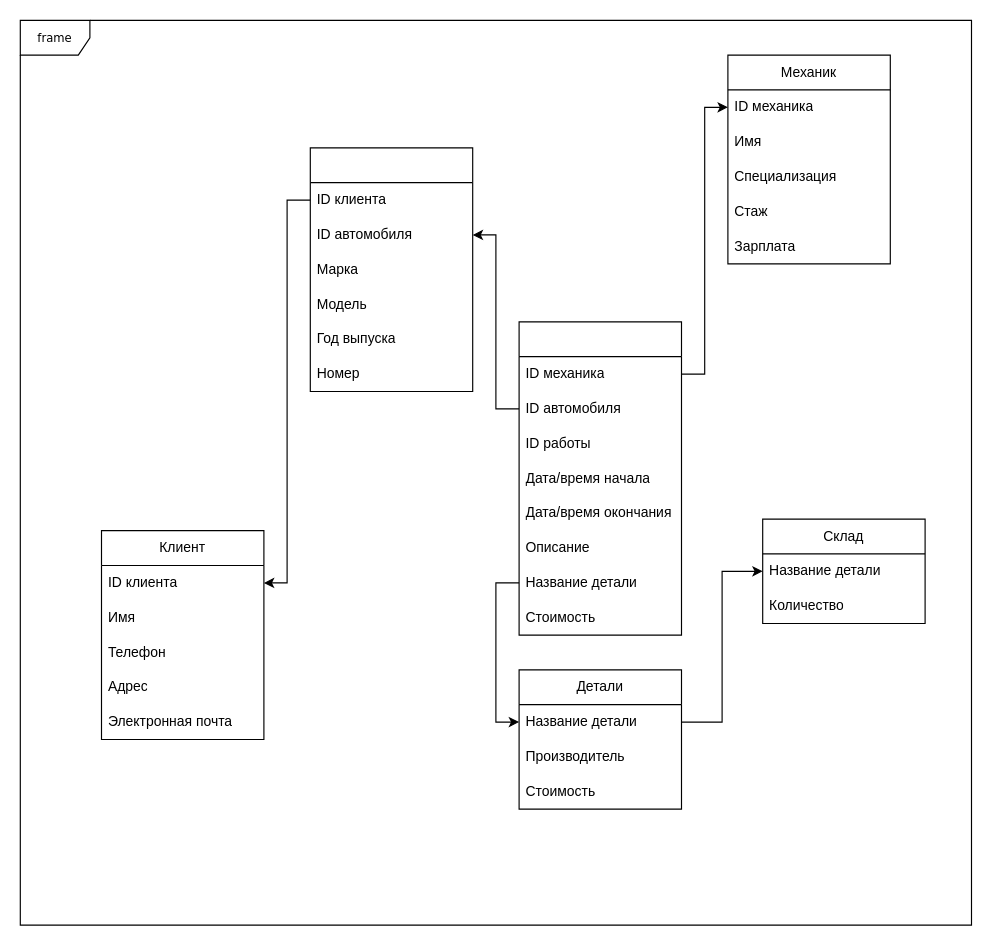
Image size: 992x945. Some labels were removed from this diagram. The box of each missing label's shape, as (x1, y1, x2, y2) in pixels:
Автомобиль: (309, 147, 473, 392)
Техническая работа: (518, 321, 682, 635)
